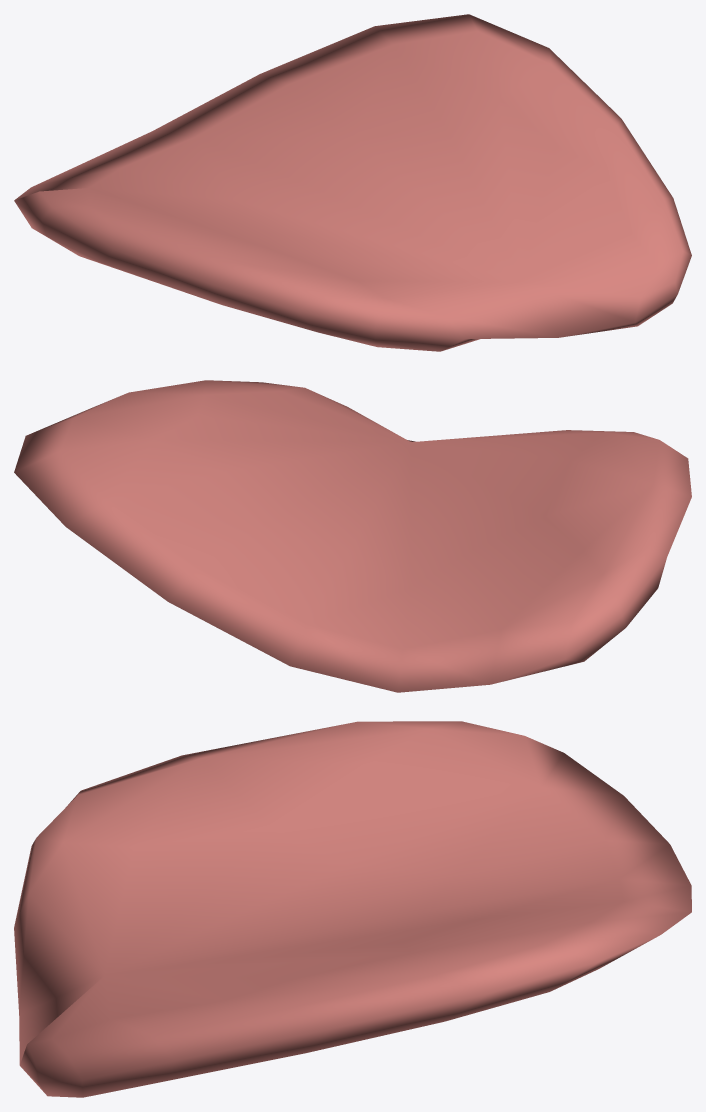
3 views of the same model, one above another, from view 1: azimuth 30°, elevation 25°; view 2: azimuth 150°, elevation 25°; view 3: azimuth 270°, elevation 25° (orthographic). The views are drawn at different scales.
Parts seen in each view (by area): view 1: ZA_23cc2bf179436d2e; view 2: ZA_23cc2bf179436d2e; view 3: ZA_23cc2bf179436d2e.
Boxes of the visible parts, <box> form: ZA_23cc2bf179436d2e: <box>14,14,691,351</box>; ZA_23cc2bf179436d2e: <box>14,380,691,692</box>; ZA_23cc2bf179436d2e: <box>14,721,691,1097</box>.
Bounding box in the file's own units: 0.00508 × 0.00127 × 0.00462.
